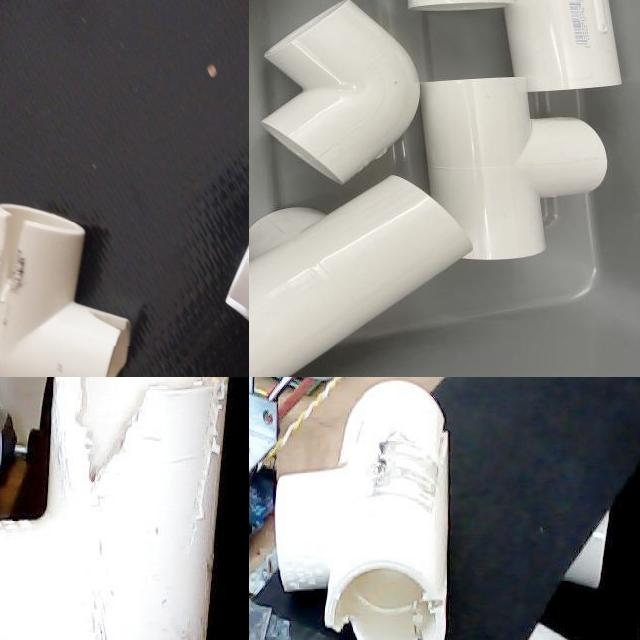Defective: (59, 377, 161, 501), (326, 563, 455, 640), (181, 377, 228, 561), (375, 409, 435, 524), (128, 29, 192, 88)
L Joint: (31, 9, 200, 222), (261, 2, 421, 186)
T Joint: (0, 377, 230, 640), (275, 381, 450, 640), (249, 175, 473, 377), (421, 77, 606, 262)
